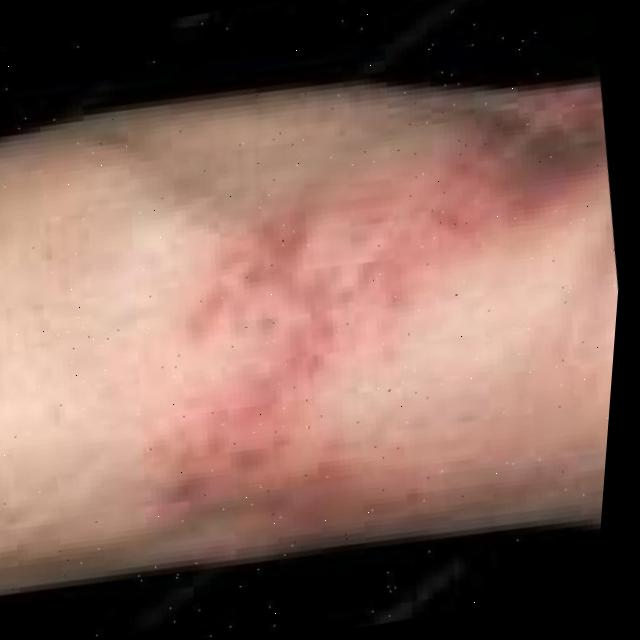Shingles: (144, 154, 436, 571)
